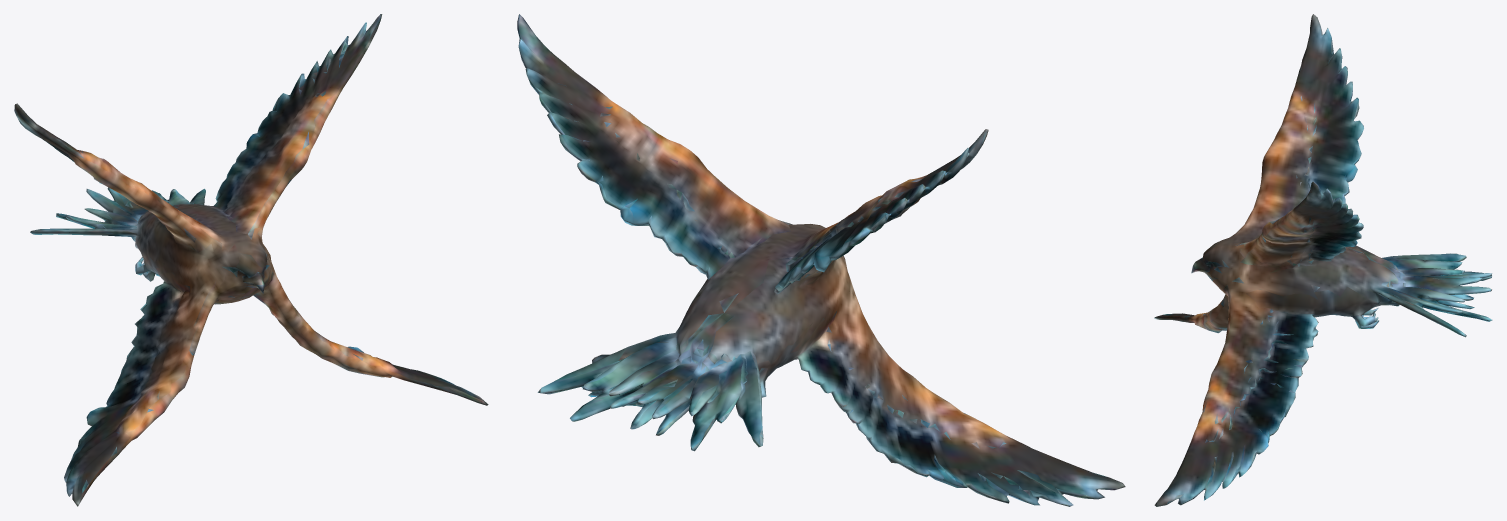
Rendered from Chaos Falcon_final.glb.
3 views of the same model, side by side, from view 1: azimuth 30°, elevation 25°; view 2: azimuth 150°, elevation 25°; view 3: azimuth 270°, elevation 25° (orthographic). The views are drawn at different scales.
Parts seen in each view (by area): view 1: Mesh_0; view 2: Mesh_0; view 3: Mesh_0.
Boxes of the visible parts, x1=… form: Mesh_0: x1=14, y1=14, x2=488, y2=506; Mesh_0: x1=517, y1=14, x2=1125, y2=506; Mesh_0: x1=1154, y1=14, x2=1492, y2=506.
Size of the model in its own units: 2.56 by 2 by 1.94.
1 material, 1 textured.
